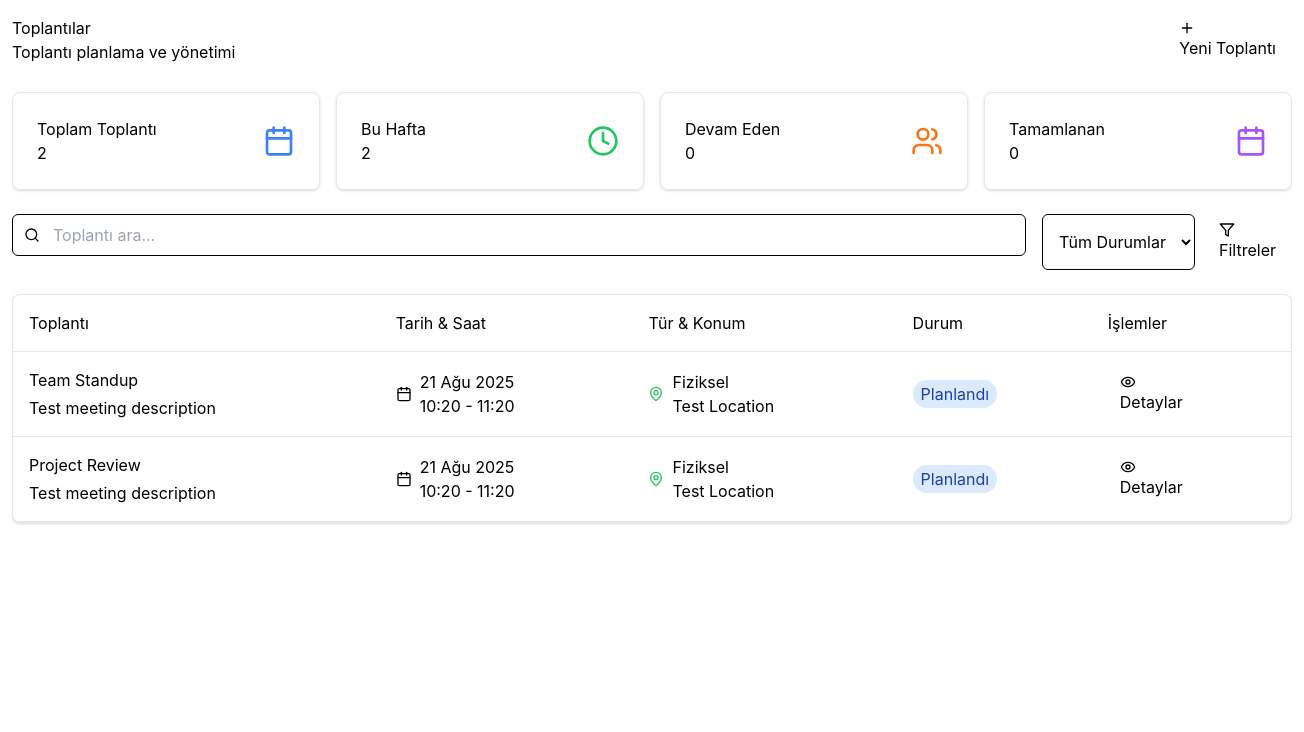
Test: Meetings Page Integration › filters meetings by search term
Expected: the text "Team Standup" is shown, [29,370,138,390]
Expected: the text "Project Review" is shown, [29,455,141,475]
Note: Search for specific meeting
Step 1. Type "Team" into the field with placeholder "Toplantı ara..." → (519, 235), box [12,214,1026,256]
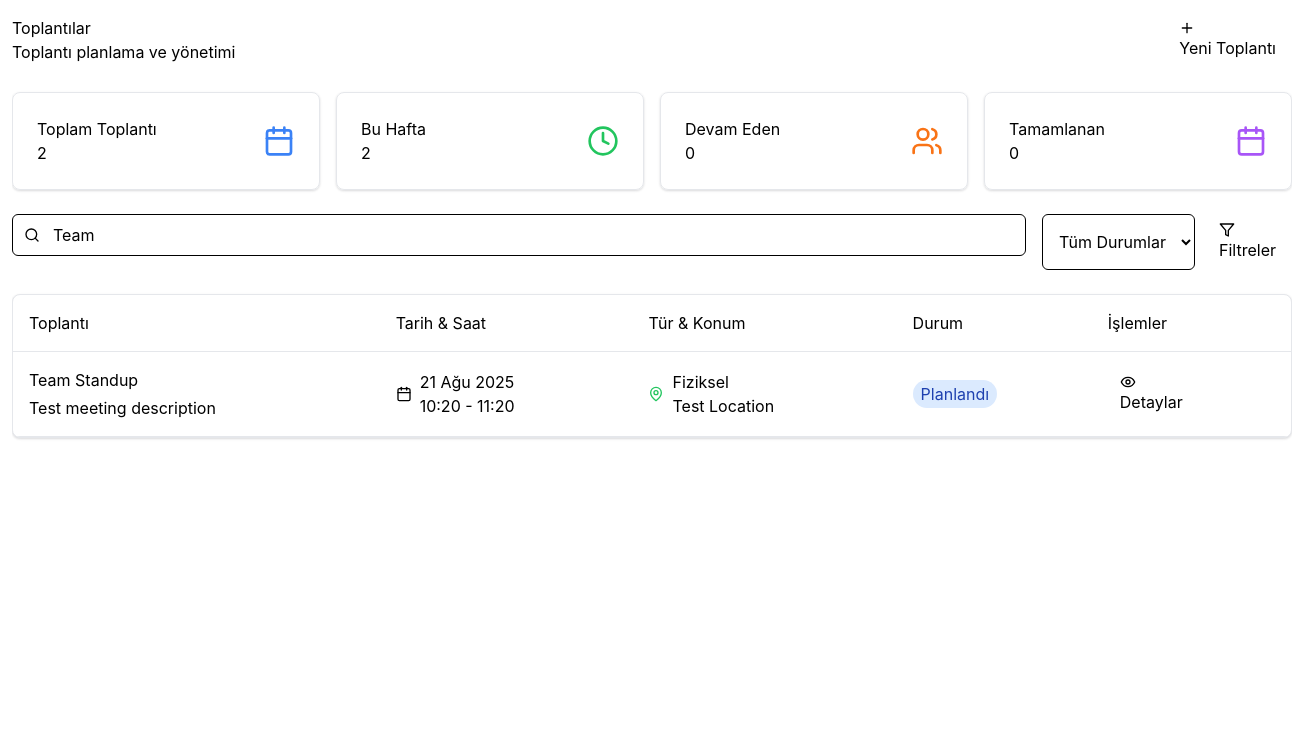
Expected: the text "Team Standup" is shown, [29,370,138,390]
Now the text "Project Review" is gone
